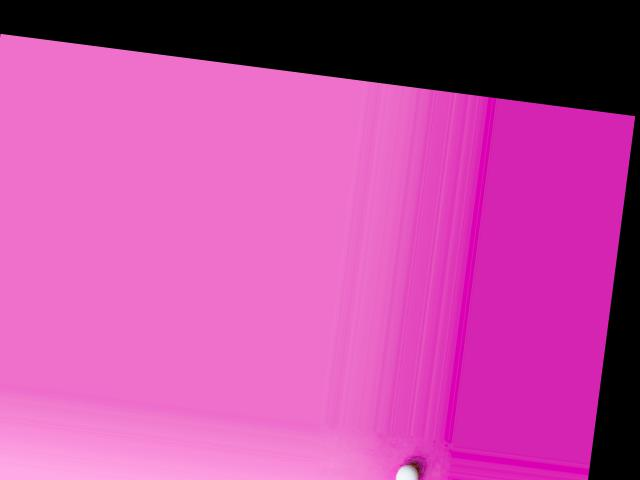egg: (393, 463, 418, 480)
